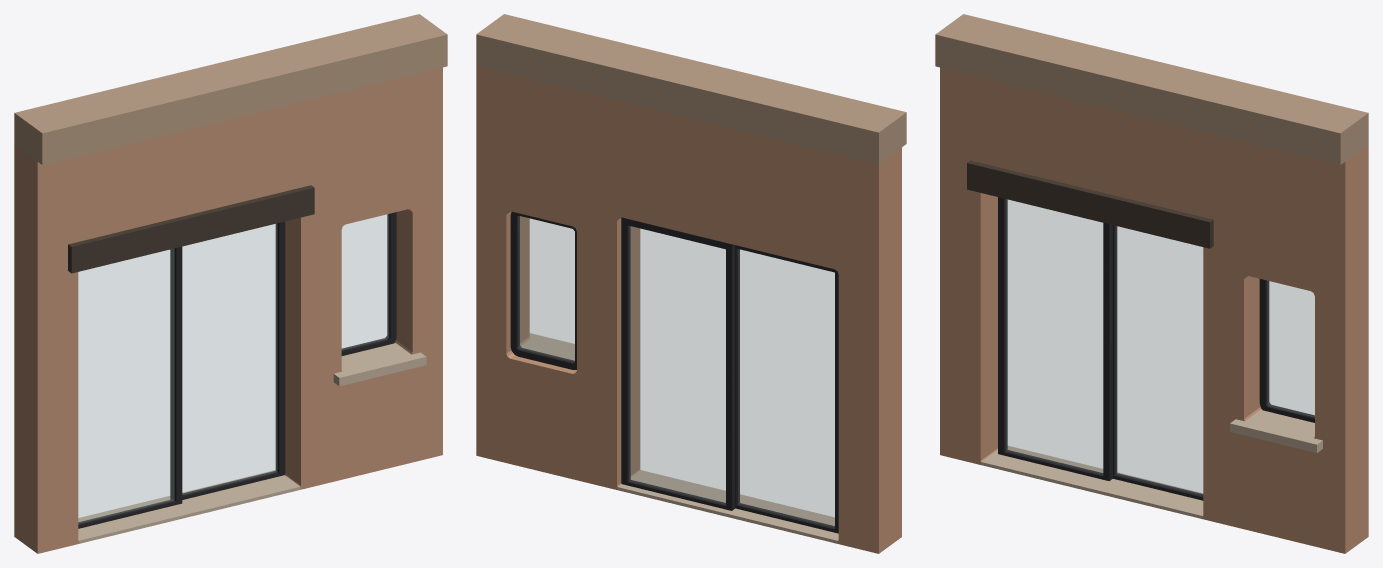
The model's file is city_res_slider_b.glb.
3 renders of one model, left to right at view 1: azimuth 30°, elevation 25°; view 2: azimuth 150°, elevation 25°; view 3: azimuth 330°, elevation 25°, orthographic.
Visible parts, largest first — view 1: CityResSliderB_Wall, CityResSliderB_Band, CityResSliderB_Leaf0, CityResSliderB_Leaf1, CityResSliderB_Lintel, CityResSliderB_SideGlass, CityResSliderB_Threshold, CityResSliderB_LeafStile12.54, CityResSliderB_LeafStile01.49, CityResSliderB_SideSill, CityResSliderB_SideFrame, CityResSliderB_LeafStile11.50 (+2 smaller); view 2: CityResSliderB_Wall, CityResSliderB_Band, CityResSliderB_Leaf0, CityResSliderB_Leaf1, CityResSliderB_SideGlass, CityResSliderB_Threshold, CityResSliderB_LeafStile11.50, CityResSliderB_LeafStile12.54, CityResSliderB_SideFrame, CityResSliderB_LeafStile01.49, CityResSliderB_LeafStile00.45, CityResSliderB_SideSill (+3 smaller); view 3: CityResSliderB_Wall, CityResSliderB_Band, CityResSliderB_Leaf0, CityResSliderB_Leaf1, CityResSliderB_Lintel, CityResSliderB_SideGlass, CityResSliderB_Threshold, CityResSliderB_LeafStile01.49, CityResSliderB_LeafStile00.45, CityResSliderB_SideSill, CityResSliderB_SideFrame, CityResSliderB_LeafStile11.50 (+2 smaller).
Boxes of the visible parts, <box> form: CityResSliderB_Wall: <box>14,67,442,553</box>; CityResSliderB_Band: <box>14,14,447,164</box>; CityResSliderB_Leaf0: <box>78,249,174,523</box>; CityResSliderB_Leaf1: <box>182,224,277,494</box>; CityResSliderB_Lintel: <box>68,185,314,273</box>; CityResSliderB_SideGlass: <box>342,214,388,349</box>; CityResSliderB_Threshold: <box>78,470,300,542</box>; CityResSliderB_LeafStile12.54: <box>275,221,285,475</box>; CityResSliderB_LeafStile01.49: <box>173,246,182,502</box>; CityResSliderB_SideSill: <box>333,343,426,386</box>; CityResSliderB_SideFrame: <box>341,212,396,355</box>; CityResSliderB_LeafStile11.50: <box>170,249,172,499</box>; CityResSliderB_Wall: <box>476,66,901,553</box>; CityResSliderB_Band: <box>476,14,906,164</box>; CityResSliderB_Leaf0: <box>738,249,834,527</box>; CityResSliderB_Leaf1: <box>629,226,725,504</box>; CityResSliderB_SideGlass: <box>518,216,574,361</box>; CityResSliderB_Threshold: <box>617,470,838,542</box>; CityResSliderB_LeafStile11.50: <box>726,247,735,510</box>; CityResSliderB_LeafStile12.54: <box>621,222,630,481</box>; CityResSliderB_SideFrame: <box>510,211,576,369</box>; CityResSliderB_LeafStile01.49: <box>735,247,739,508</box>; CityResSliderB_LeafStile00.45: <box>835,271,838,532</box>; CityResSliderB_SideSill: <box>521,333,574,360</box>; CityResSliderB_Wall: <box>940,67,1368,553</box>; CityResSliderB_Band: <box>935,14,1368,164</box>; CityResSliderB_Leaf0: <box>1006,199,1102,474</box>; CityResSliderB_Leaf1: <box>1116,226,1202,495</box>; CityResSliderB_Lintel: <box>967,160,1213,248</box>; CityResSliderB_SideGlass: <box>1267,281,1314,416</box>; CityResSliderB_Threshold: <box>980,446,1203,518</box>; CityResSliderB_LeafStile01.49: <box>1103,223,1112,480</box>; CityResSliderB_LeafStile00.45: <box>998,197,1007,453</box>; CityResSliderB_SideSill: <box>1230,410,1322,452</box>; CityResSliderB_SideFrame: <box>1259,279,1314,422</box>; CityResSliderB_LeafStile11.50: <box>1113,225,1117,477</box>.
Bounding box in the file's own units: 4 × 4 × 0.5.
